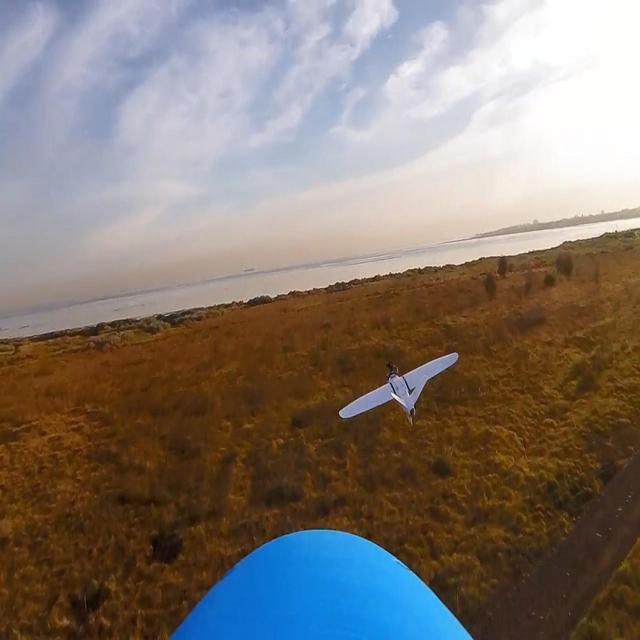iha: (335, 376, 464, 401)
